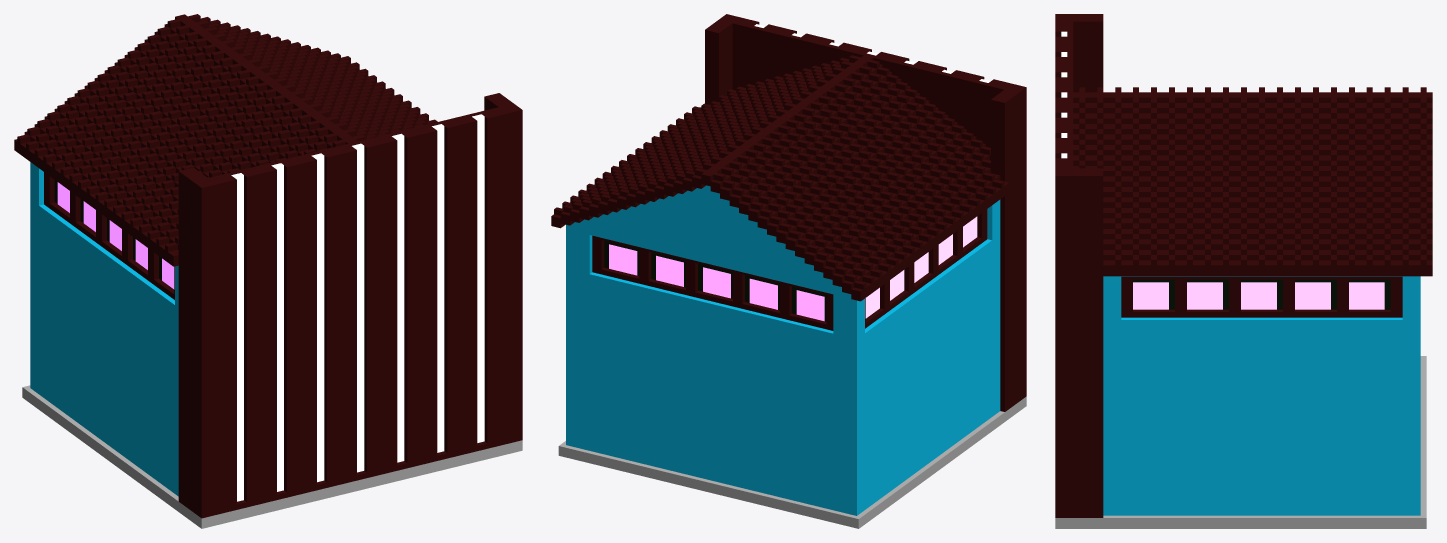
The model's file is typeThree.glb.
The picture shows the model from 3 angles, left to right: view 1: azimuth 30°, elevation 25°; view 2: azimuth 150°, elevation 25°; view 3: azimuth 270°, elevation 25°; orthographic projection. The views are drawn at different scales.
Parts seen in each view (by area): view 1: ObjObject; view 2: ObjObject; view 3: ObjObject.
Part boxes in pixels (left/top/right/bottom): ObjObject: left=14, top=14, right=522, bottom=528; ObjObject: left=551, top=14, right=1026, bottom=528; ObjObject: left=1055, top=14, right=1432, bottom=528.
Size of the model in its own units: 6.6 by 6.5 by 6.3.
3 materials, 1 textured.
